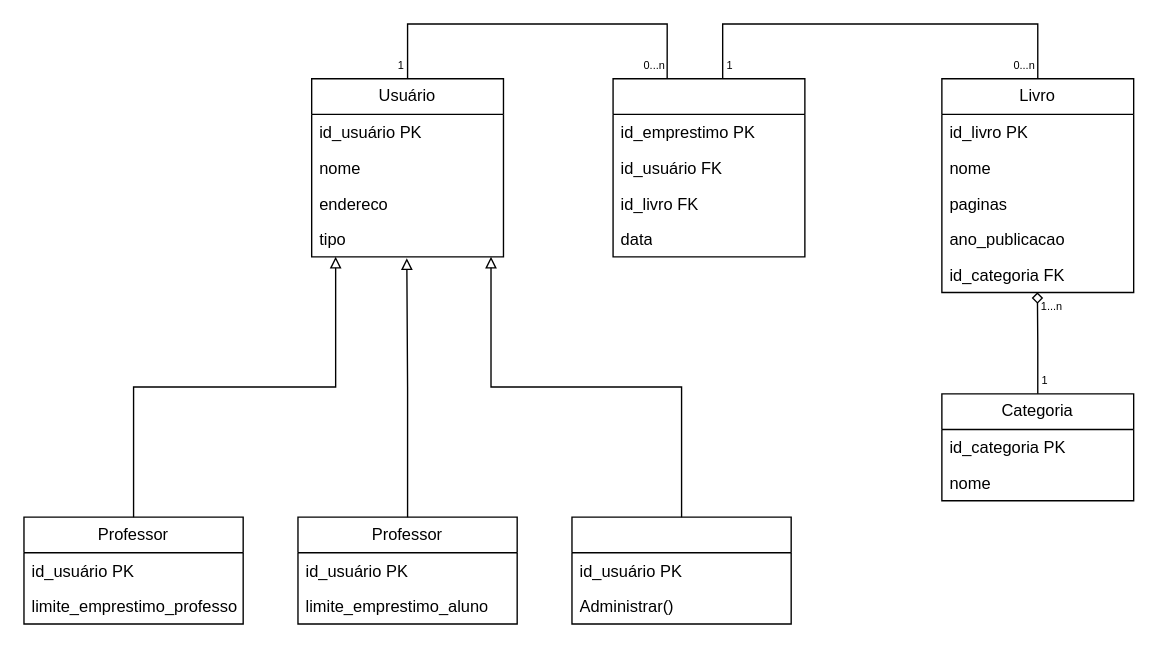
This 1158x652 diagram has some shape labels left out. The shapes that lost their labels are listed below. From the top down, each one's box as (x1, y1, x2, y2) in pixels, then its label:
(612, 77, 805, 257): Empréstimo
(571, 516, 791, 624): Funcionário
